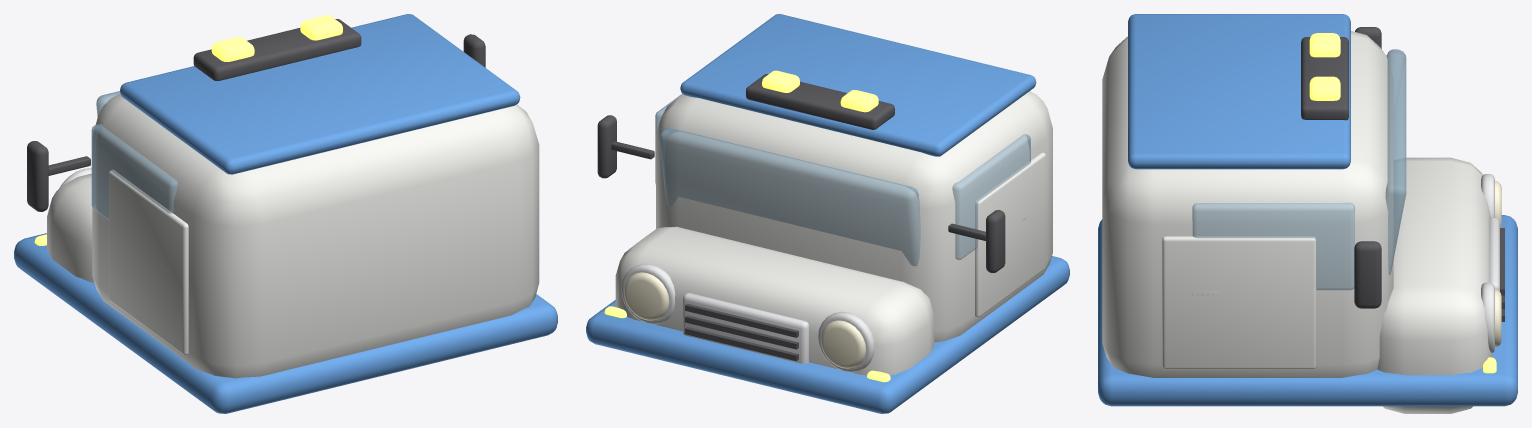
Rendered from Kabina_Zwykla.fbx.
The picture shows the model from 3 angles, left to right: view 1: azimuth 30°, elevation 25°; view 2: azimuth 150°, elevation 25°; view 3: azimuth 270°, elevation 25°; orthographic projection. The views are drawn at different scales.
Parts seen in each view (by area): view 1: Kabina_Zwykla; view 2: Kabina_Zwykla; view 3: Kabina_Zwykla.
Part boxes in pixels (box(x1,y1,x2,y2)): Kabina_Zwykla: box(14, 14, 557, 413); Kabina_Zwykla: box(586, 14, 1069, 413); Kabina_Zwykla: box(1098, 14, 1517, 413).
Bounding box in the file's own units: 3.05 × 1.85 × 2.45.
